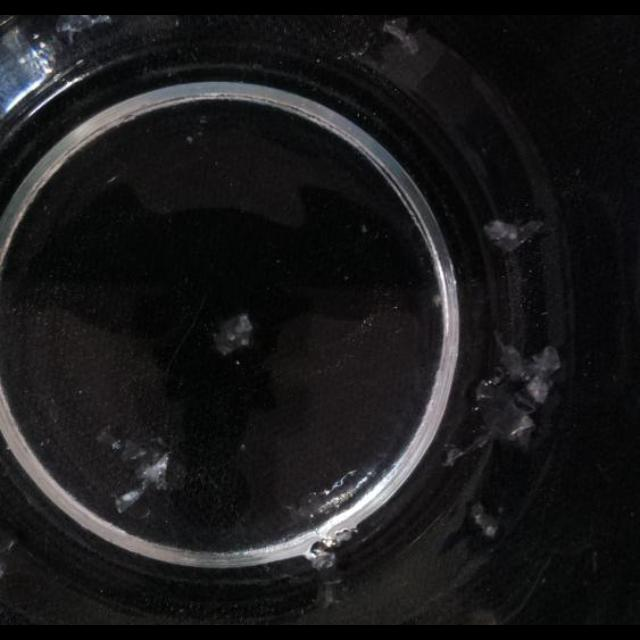Fibre: (471, 338, 561, 450), (102, 428, 176, 516), (483, 218, 543, 254), (306, 526, 356, 566), (212, 314, 256, 356), (380, 18, 416, 54), (469, 504, 498, 538), (317, 580, 345, 610), (432, 294, 442, 310)
microbeads: (186, 134, 194, 144), (239, 442, 247, 452), (360, 224, 368, 233)
